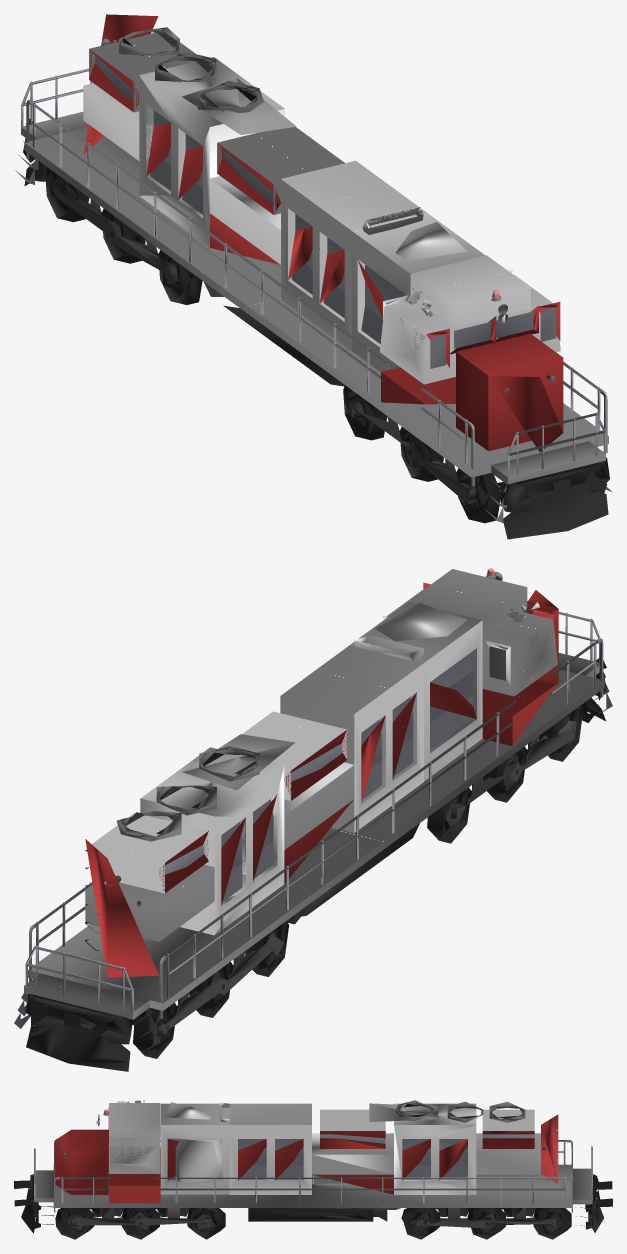
File: m_loco2.glb
3 views of the same model, one above another, from view 1: azimuth 30°, elevation 25°; view 2: azimuth 150°, elevation 25°; view 3: azimuth 270°, elevation 25° (orthographic). The views are drawn at different scales.
Visible parts, largest first — view 1: body|custom7Clone, body|defaultMatClone, body|blueSteelClone, body|custom12Clone, body|steelClone, body|glassClone, body|custom14Clone; view 2: body|custom7Clone, body|defaultMatClone, body|blueSteelClone, body|custom12Clone, body|steelClone, body|glassClone, body|custom14Clone; view 3: body|custom7Clone, body|defaultMatClone, body|blueSteelClone, body|custom12Clone, body|steelClone, body|glassClone, body|custom14Clone.
Part boxes in pixels (bbox=[...]): body|custom7Clone: bbox=[83, 33, 560, 384]; body|defaultMatClone: bbox=[21, 27, 608, 484]; body|blueSteelClone: bbox=[83, 14, 563, 452]; body|custom12Clone: bbox=[23, 31, 609, 539]; body|steelClone: bbox=[21, 38, 607, 485]; body|glassClone: bbox=[15, 56, 611, 522]; body|custom14Clone: bbox=[51, 177, 478, 508]; body|custom7Clone: bbox=[85, 569, 557, 941]; body|defaultMatClone: bbox=[24, 602, 604, 1019]; body|blueSteelClone: bbox=[85, 582, 558, 977]; body|custom12Clone: bbox=[25, 658, 606, 1071]; body|steelClone: bbox=[25, 572, 603, 1018]; body|glassClone: bbox=[14, 610, 612, 1052]; body|custom14Clone: bbox=[152, 716, 576, 1033]; body|custom7Clone: bbox=[96, 1102, 558, 1194]; body|defaultMatClone: bbox=[34, 1100, 592, 1207]; body|blueSteelClone: bbox=[54, 1107, 558, 1203]; body|custom12Clone: bbox=[14, 1104, 612, 1239]; body|steelClone: bbox=[34, 1114, 592, 1212]; body|glassClone: bbox=[37, 1134, 592, 1226]; body|custom14Clone: bbox=[68, 1208, 561, 1231].
Size of the model in its own units: 2.8 by 3.92 by 18.22.
